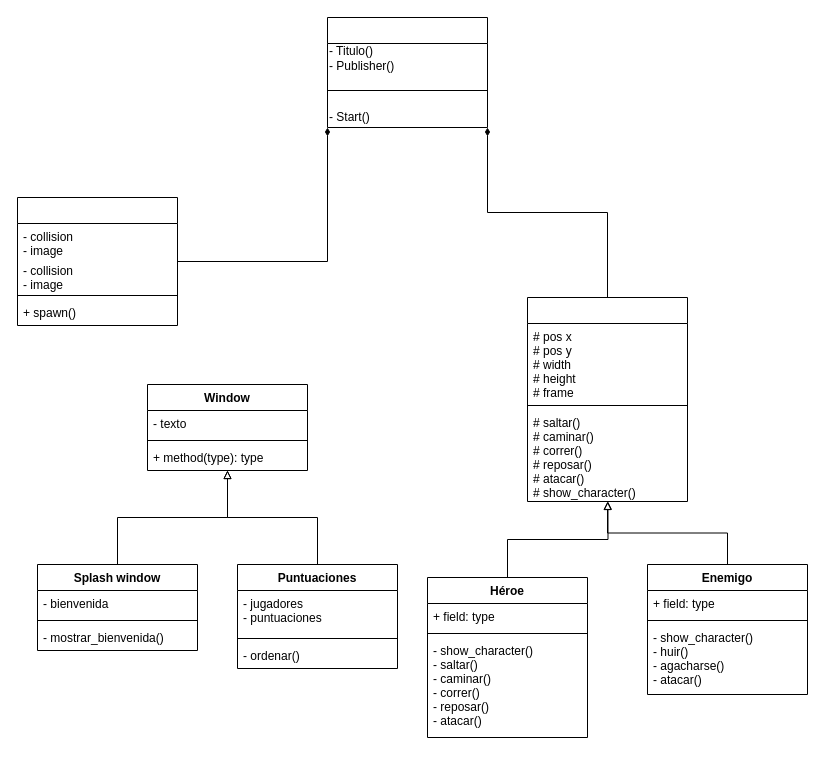
The diagram is 825 pixels wide and 758 high, and some of its shapes have lost their labels. The shapes that lost their labels are listed below. From the top down, each one's box as (x1, y1, x2, y2) in pixels, then its label:
(326, 16, 488, 128): Game
(16, 196, 178, 326): Props
(526, 296, 688, 502): Personaje
